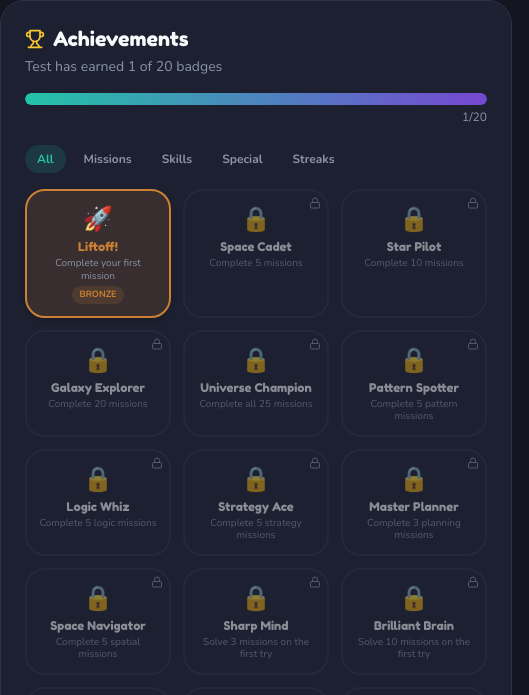
Test: AchievementsBoard › filters achievements by category
What coordinates should you click on to do the following:
click the button "Missions"
I would click on:
 (108, 159)
Its box is [72,145,144,173].
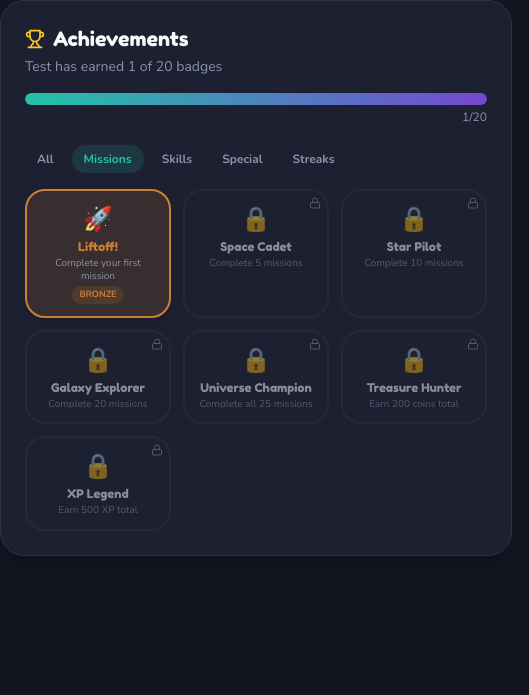
Now the text "Pattern Spotter" is gone
Now the text "Logic Whiz" is gone
Now the text "Strategy Ace" is gone
